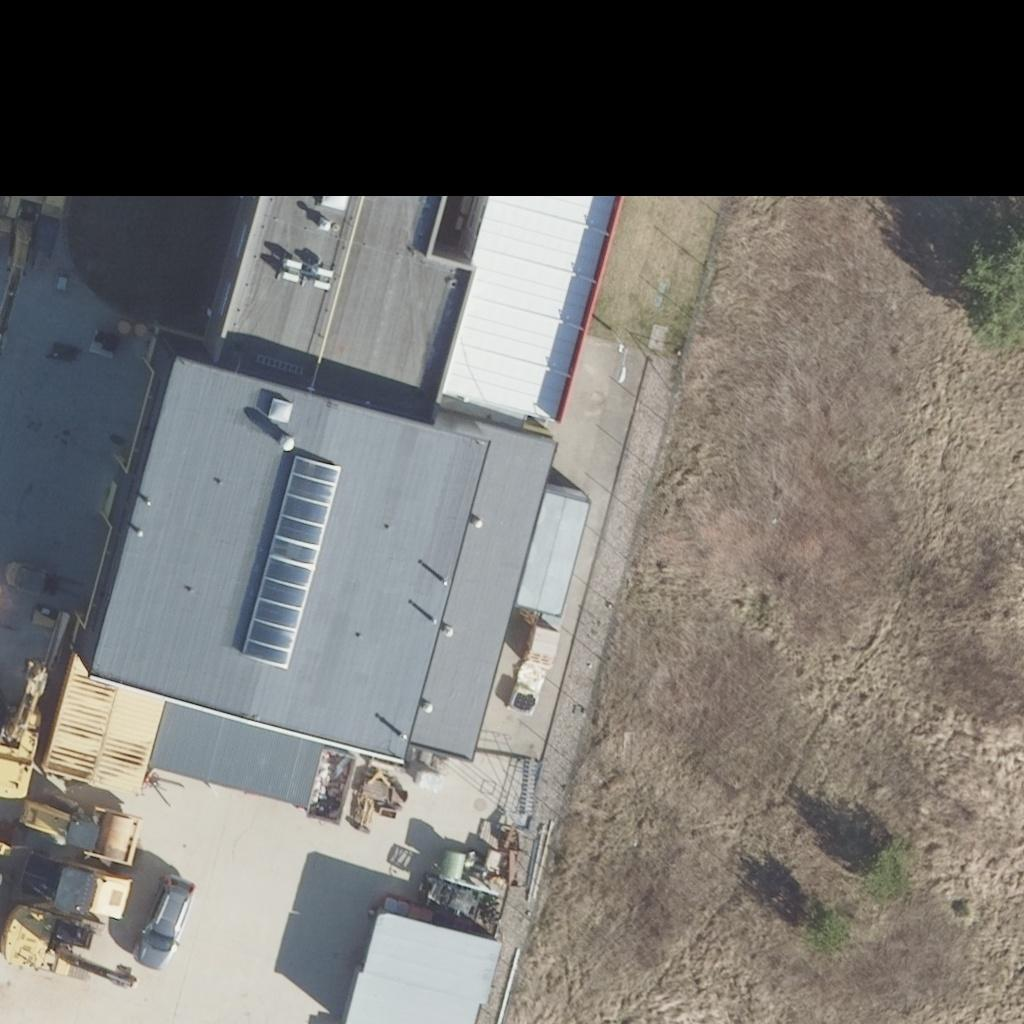koparka: (2, 900, 143, 1007), (0, 642, 53, 808)
